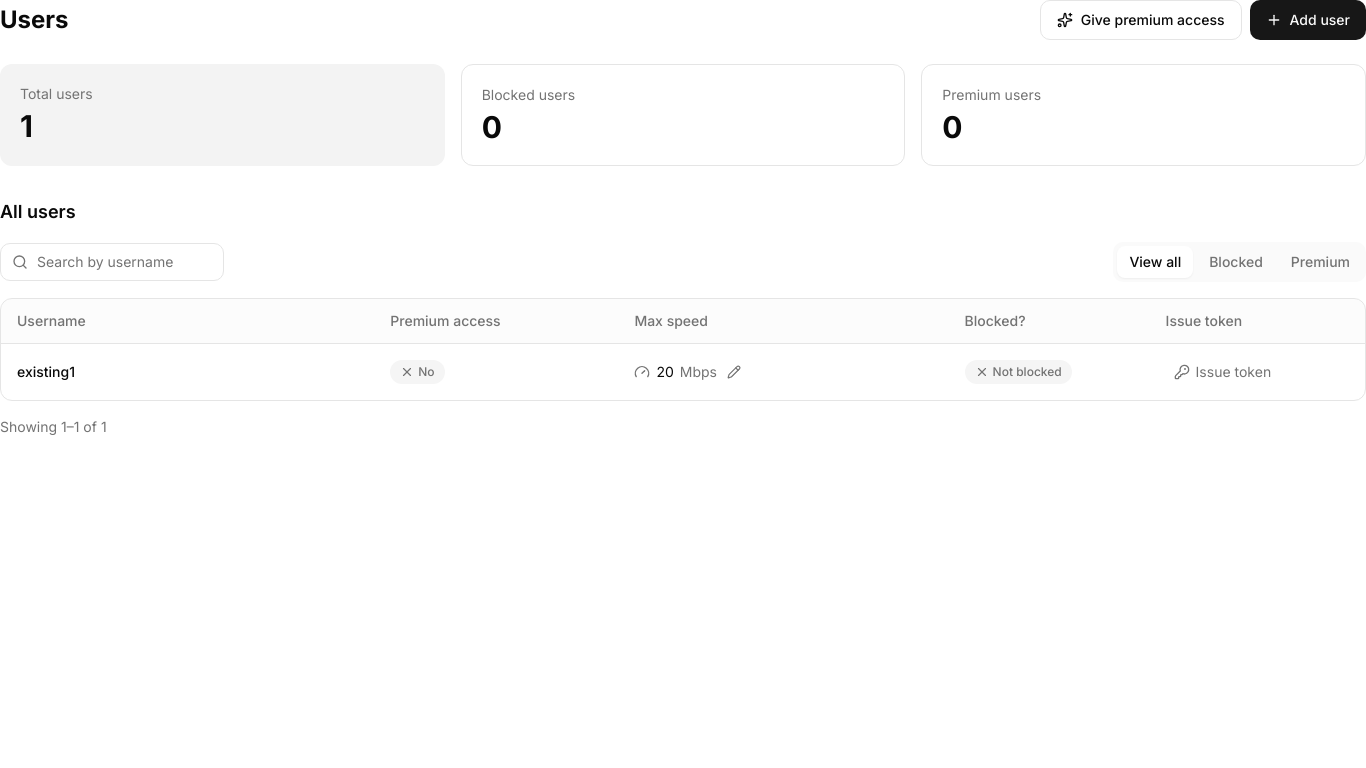
Users page — issue a new token › shows the backend error when issuing fails
The image size is (1366, 768).
Click the button with aria-label "issue a new token for existing1".
click(1222, 372)  # box [1166,356,1279,388]
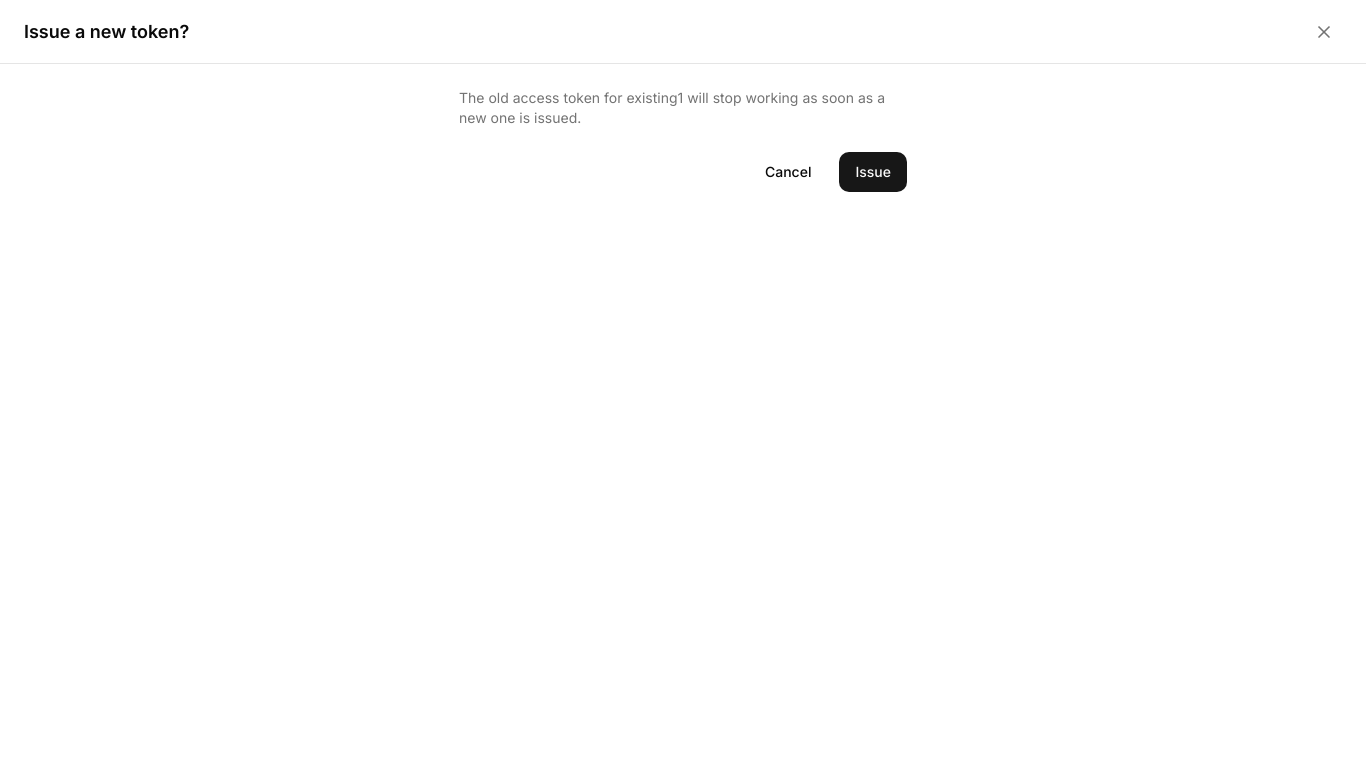
Click the button "Issue".
click(873, 172)  # box [840,152,907,192]
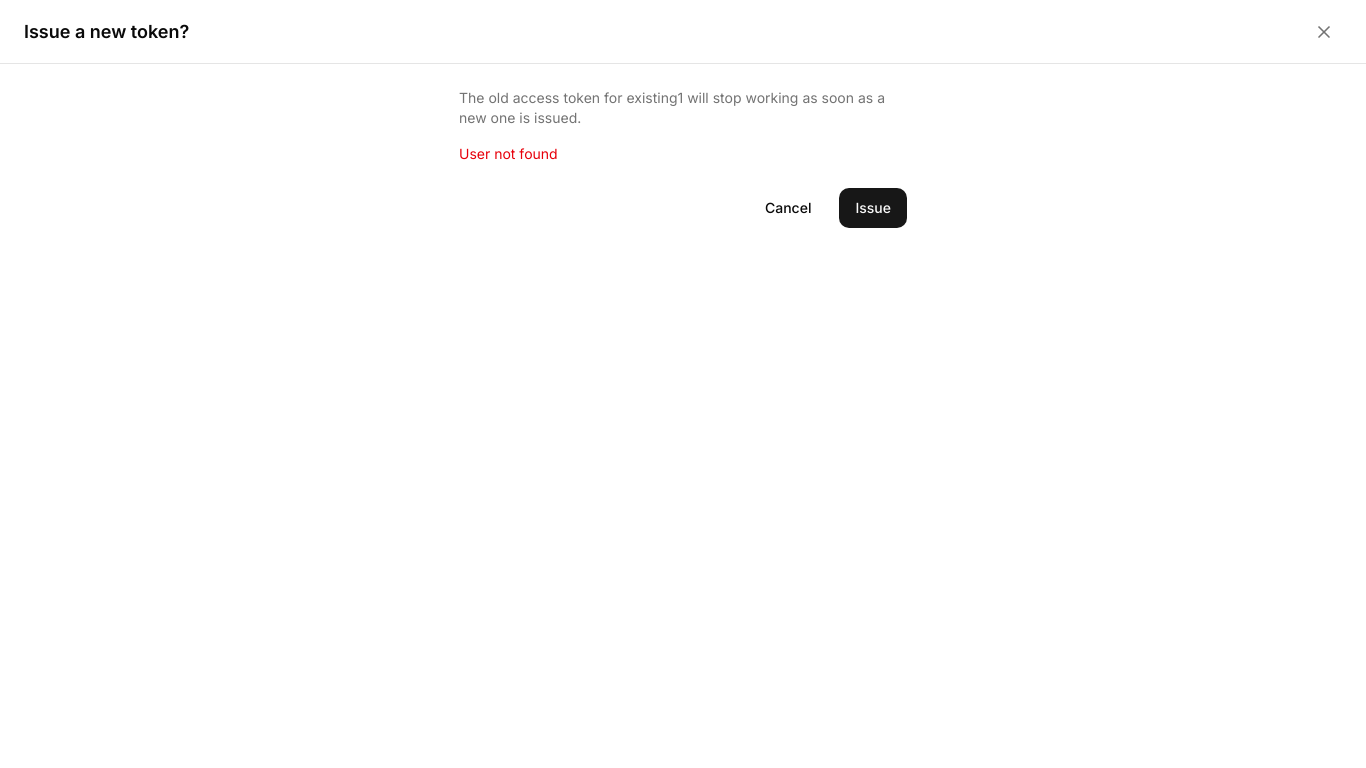
Expected: the text "User not found" is shown, [459,145,558,162]
